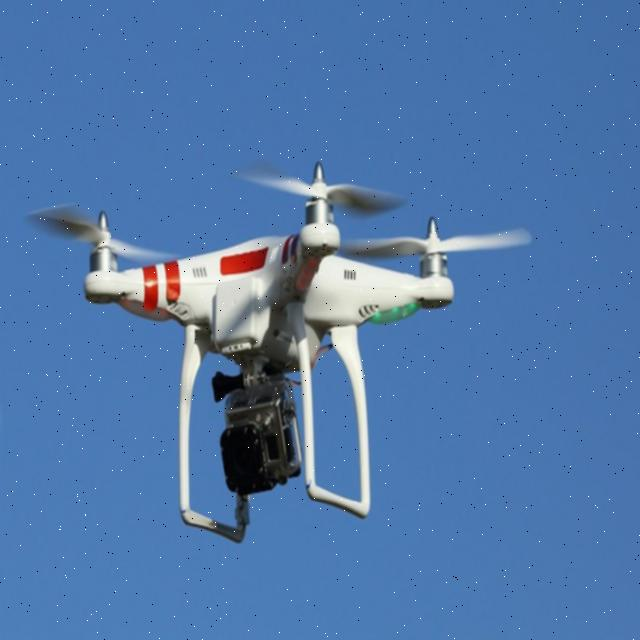UAV: (82, 160, 456, 549)
